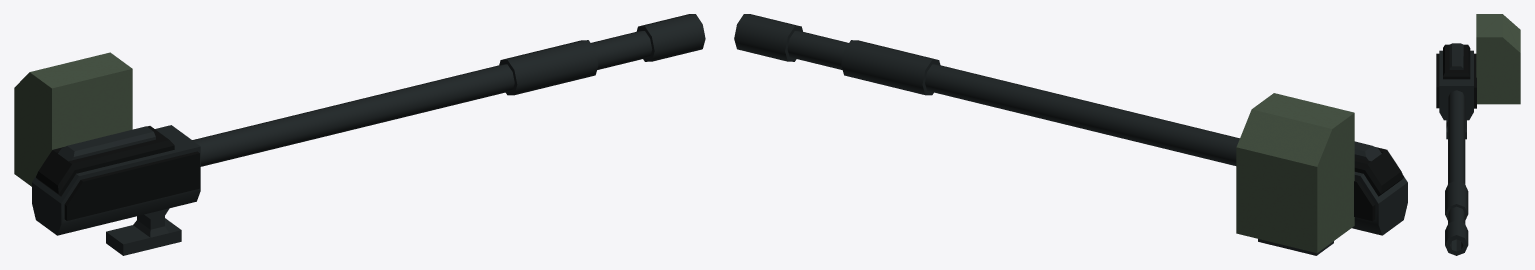
Rendered from Cannon.FBX.
3 views of the same model, side by side, from view 1: azimuth 30°, elevation 25°; view 2: azimuth 150°, elevation 25°; view 3: azimuth 270°, elevation 25° (orthographic). The views are drawn at different scales.
Parts seen in each view (by area): view 1: Cannon; view 2: Cannon; view 3: Cannon.
Boxes of the visible parts, x1,y1,x2,y2 form: Cannon: (14,14,705,255); Cannon: (734,14,1407,255); Cannon: (1436,14,1520,255).
Size of the model in its own units: 158 by 30.12 by 37.38.
3 materials, 1 textured.
